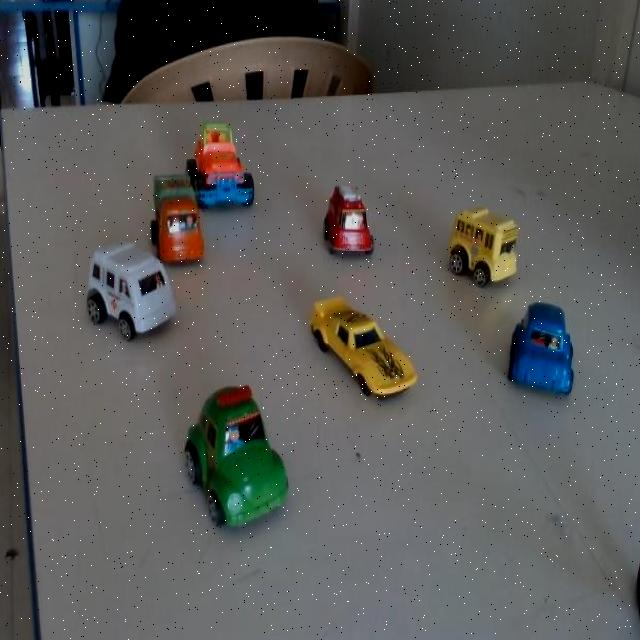car: (178, 388, 292, 524), (84, 232, 178, 350), (309, 300, 414, 396), (190, 114, 268, 212), (508, 304, 580, 396), (146, 166, 207, 272), (441, 208, 514, 291), (313, 178, 375, 268)
